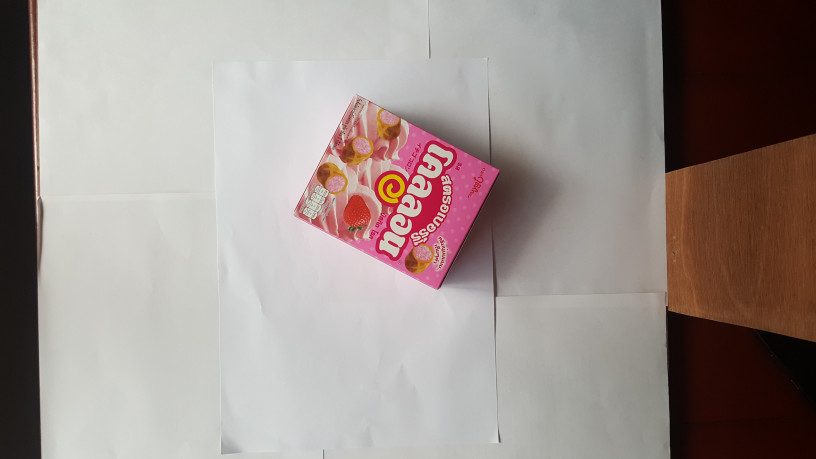collon-strawberry: (292, 93, 499, 294)
